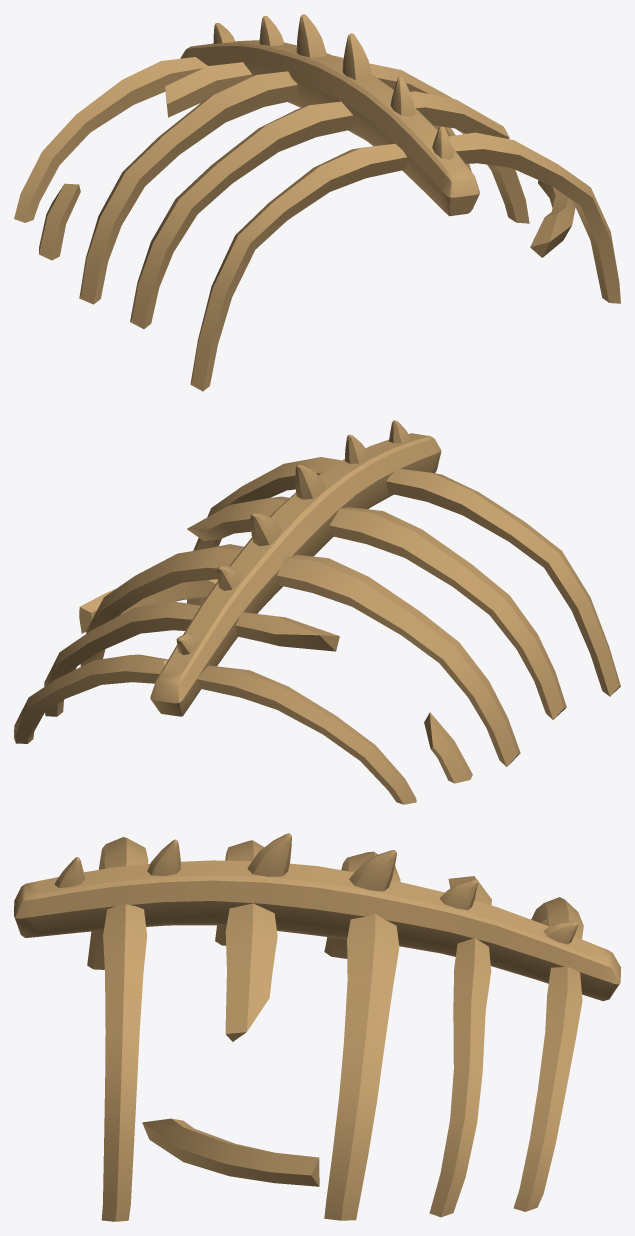
File: environment-largebones.glb
The picture shows the model from 3 angles, top to bottom: view 1: azimuth 30°, elevation 25°; view 2: azimuth 150°, elevation 25°; view 3: azimuth 270°, elevation 25°; orthographic projection. The views are drawn at different scales.
Parts seen in each view (by area): view 1: Environment_LargeBones; view 2: Environment_LargeBones; view 3: Environment_LargeBones.
Part boxes in pixels (x1,y1,x2,y2): Environment_LargeBones: (14,14,620,391); Environment_LargeBones: (14,420,620,804); Environment_LargeBones: (14,833,620,1221).
Bounding box in the file's own units: 6.5 × 3.43 × 6.62.
1 material, 1 textured.
